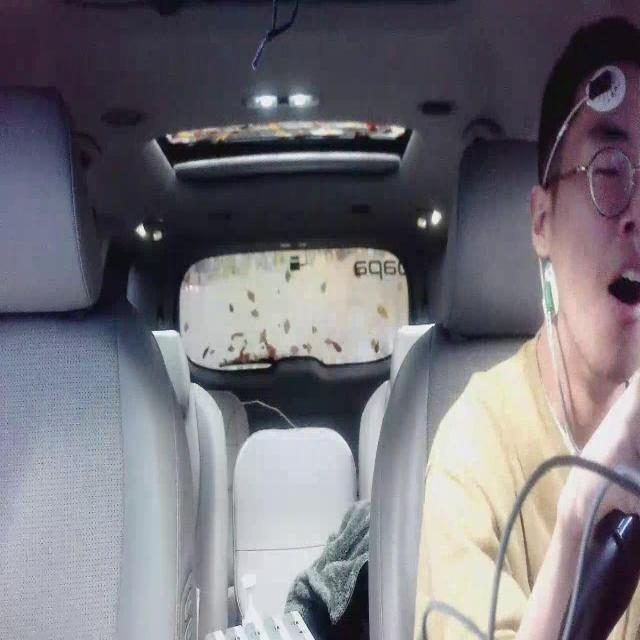Yawning: (602, 240, 640, 320)
